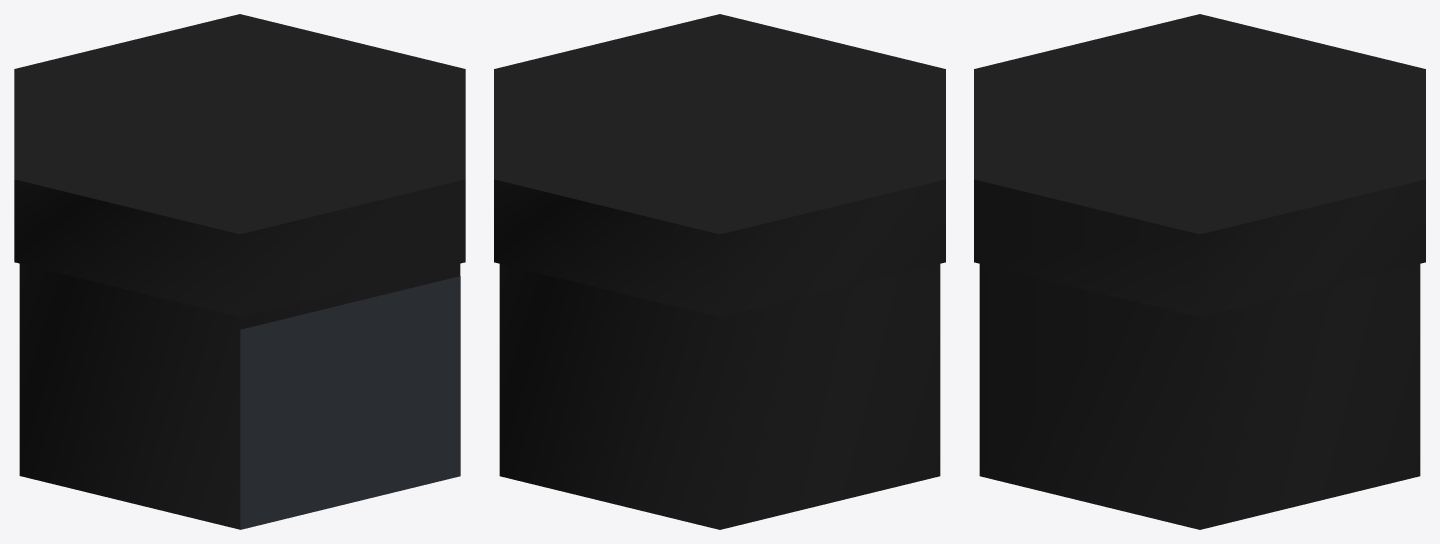
The model's file is 3dpaks-hexbox-1792096364457_1792096406319.glb.
3 renders of one model, left to right at view 1: azimuth 30°, elevation 25°; view 2: azimuth 150°, elevation 25°; view 3: azimuth 270°, elevation 25°, orthographic.
Size of the model in its own units: 144 by 90.5 by 124.
Materials: 2 (1 with a texture image).
